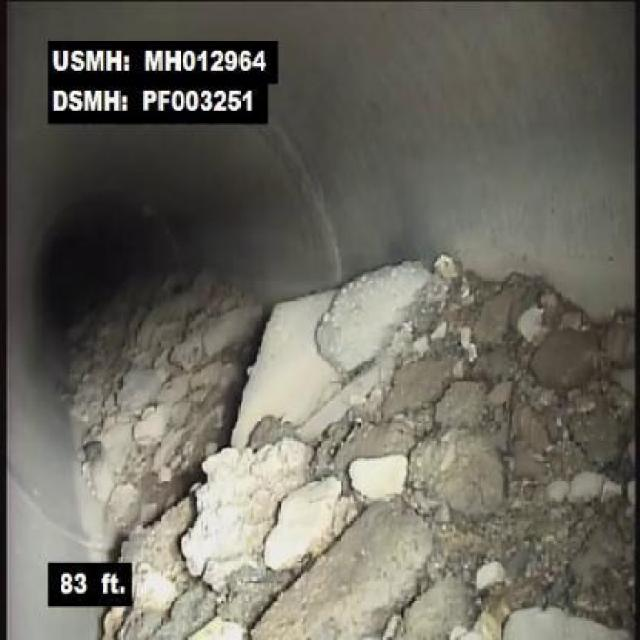Obstacle: (257, 243, 637, 639), (129, 263, 257, 639)
